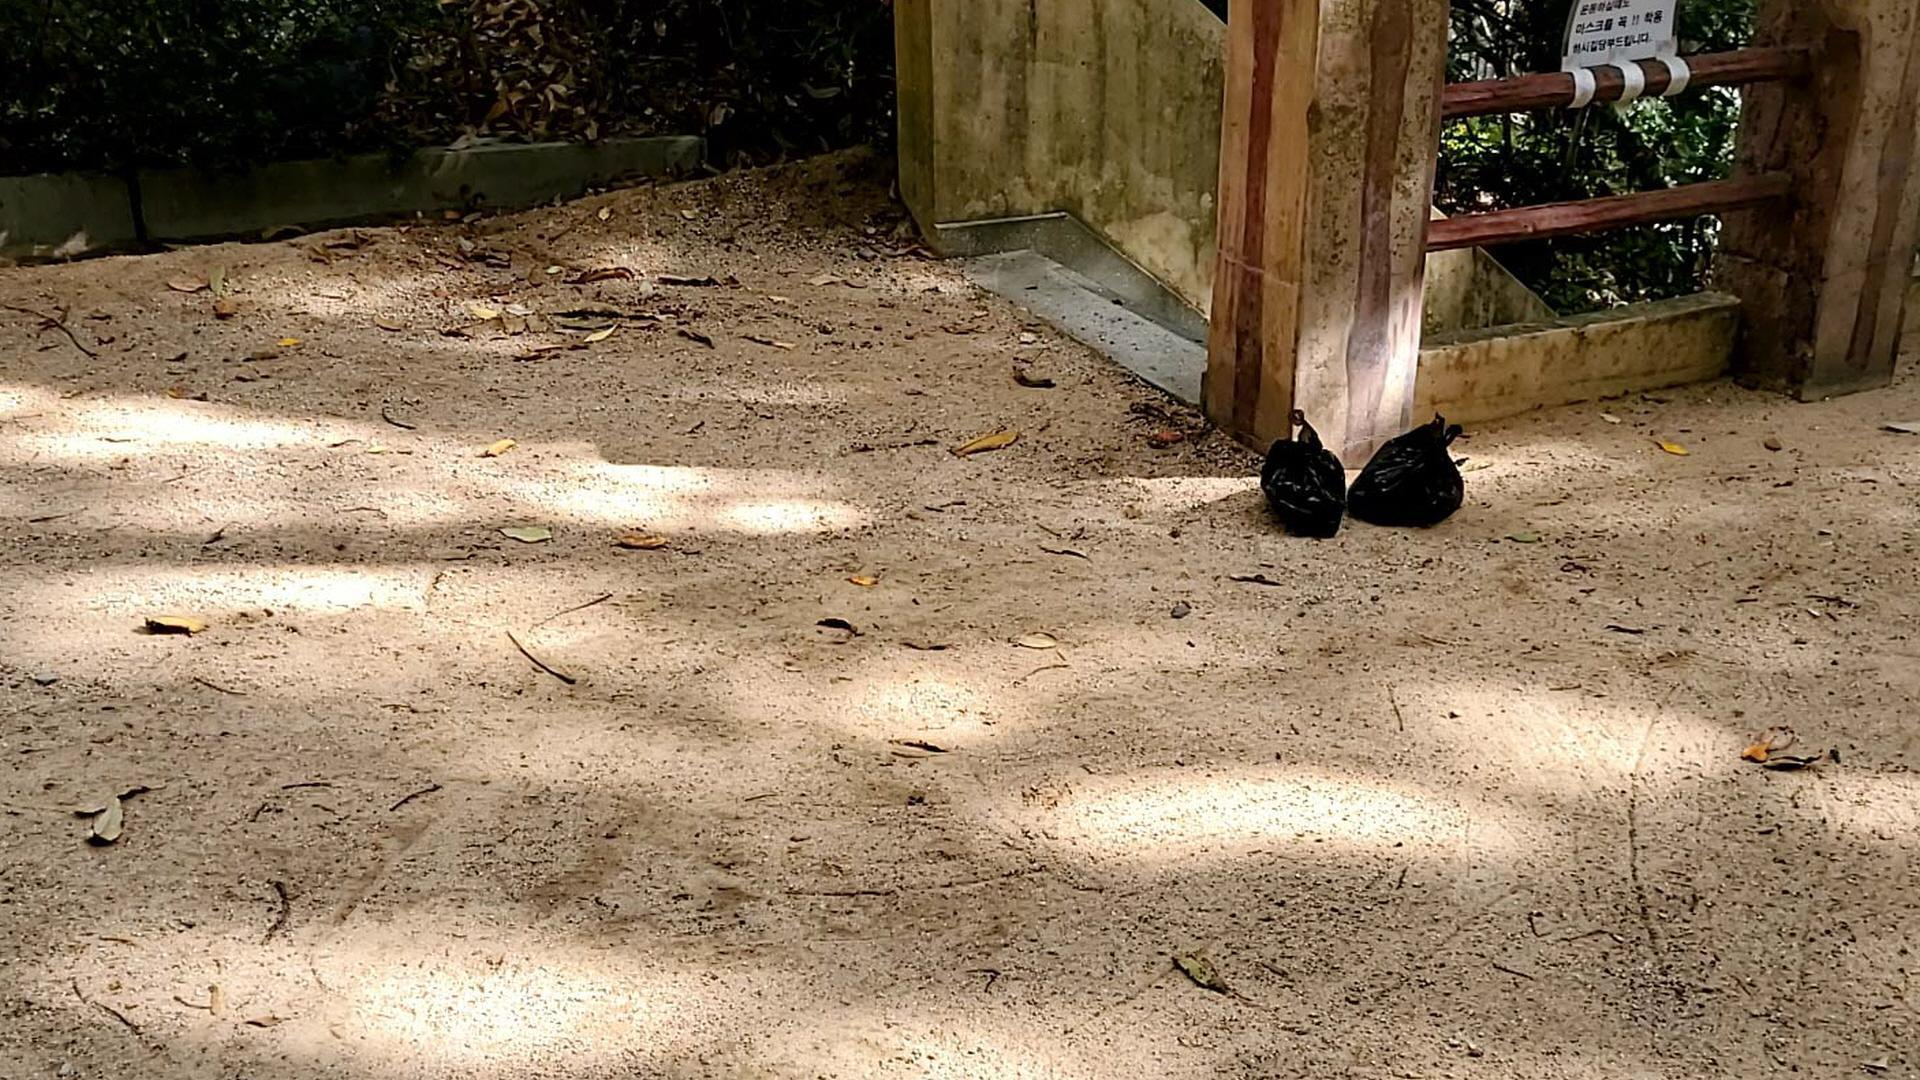black_bag: (1344, 404, 1469, 534), (1251, 404, 1354, 549)
